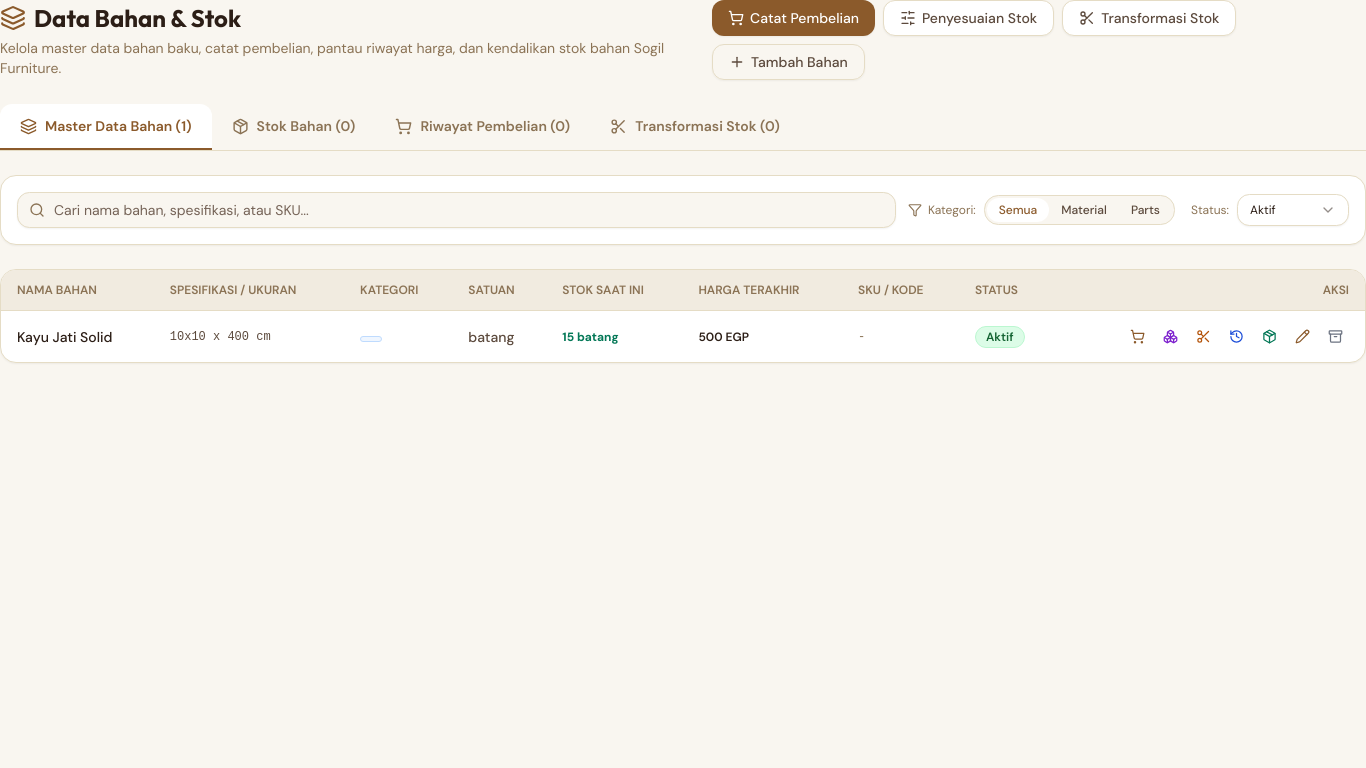
it: Phase 10: Multi-Buyer Material Purchase Wages Frontend Suite › 2. UI Rendering and Multi-Buyer Interaction › displays informational alert when policy is inactive
Click the button "Catat Pembelian".
click(794, 18)  # box [712,0,875,36]
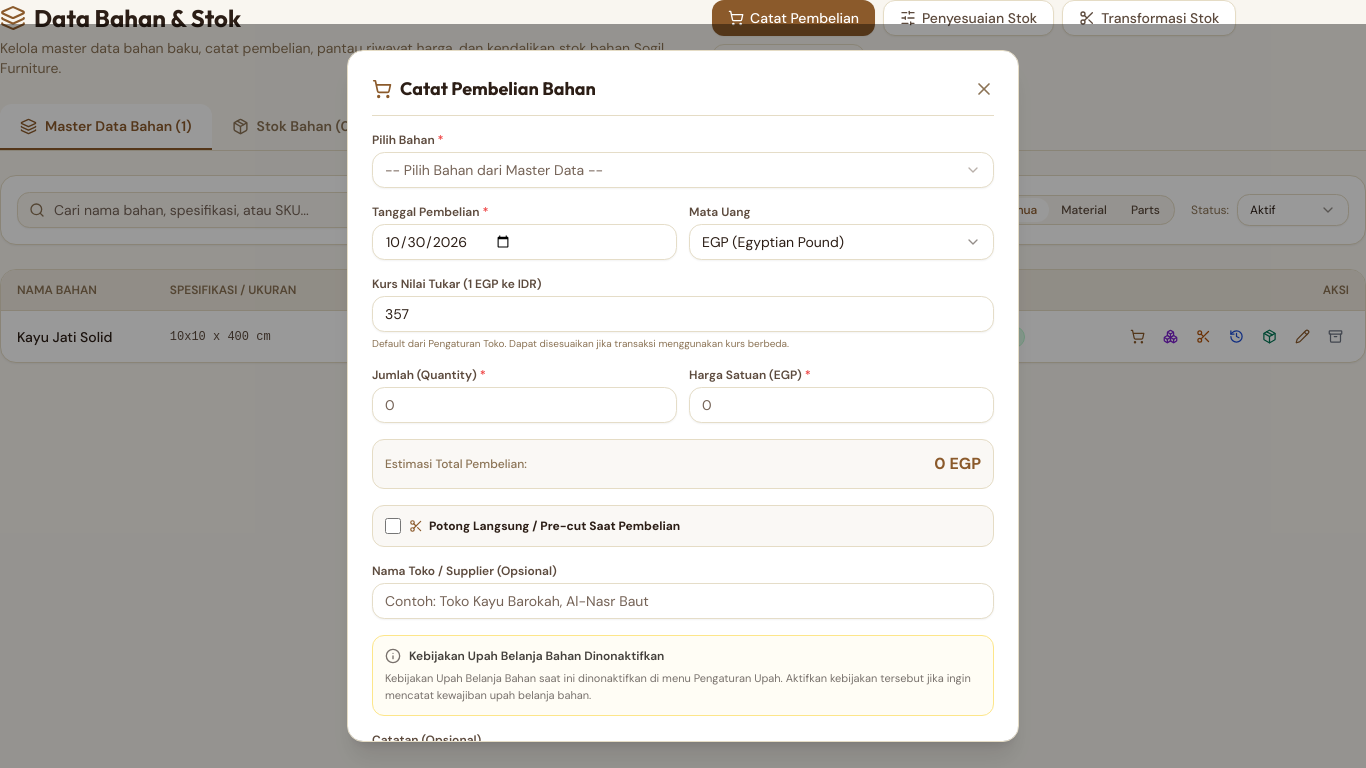
expect the text "Kebijakan Upah Belanja Bahan Dinonaktifkan" is shown: met, box [409,648,664,664]
